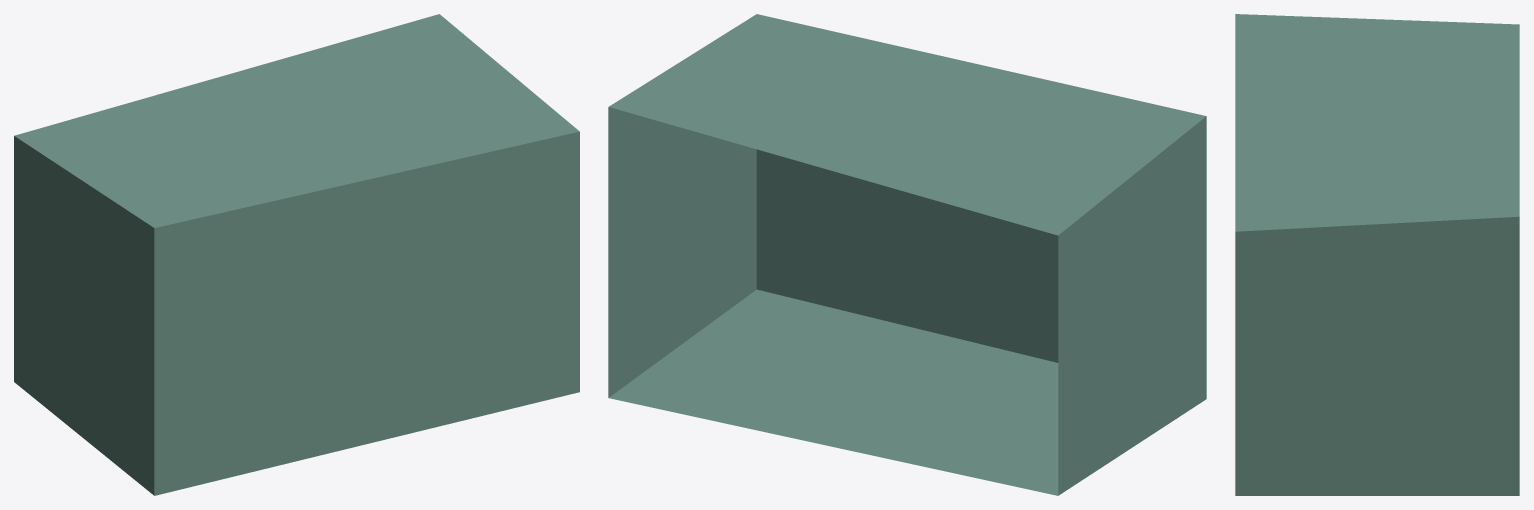
The model's file is Bricks_Single.glb.
The picture shows the model from 3 angles, left to right: view 1: azimuth 30°, elevation 25°; view 2: azimuth 150°, elevation 25°; view 3: azimuth 270°, elevation 25°; orthographic projection. The views are drawn at different scales.
Visible parts, largest first — view 1: Bricks_Single; view 2: Bricks_Single; view 3: Bricks_Single.
Part boxes in pixels (x1,y1,x2,y2): Bricks_Single: (14,14,579,495); Bricks_Single: (608,14,1206,495); Bricks_Single: (1235,14,1519,495).
Size of the model in its own units: 0.2388 by 0.1477 by 0.1364.
Materials: 1 (1 with a texture image).
